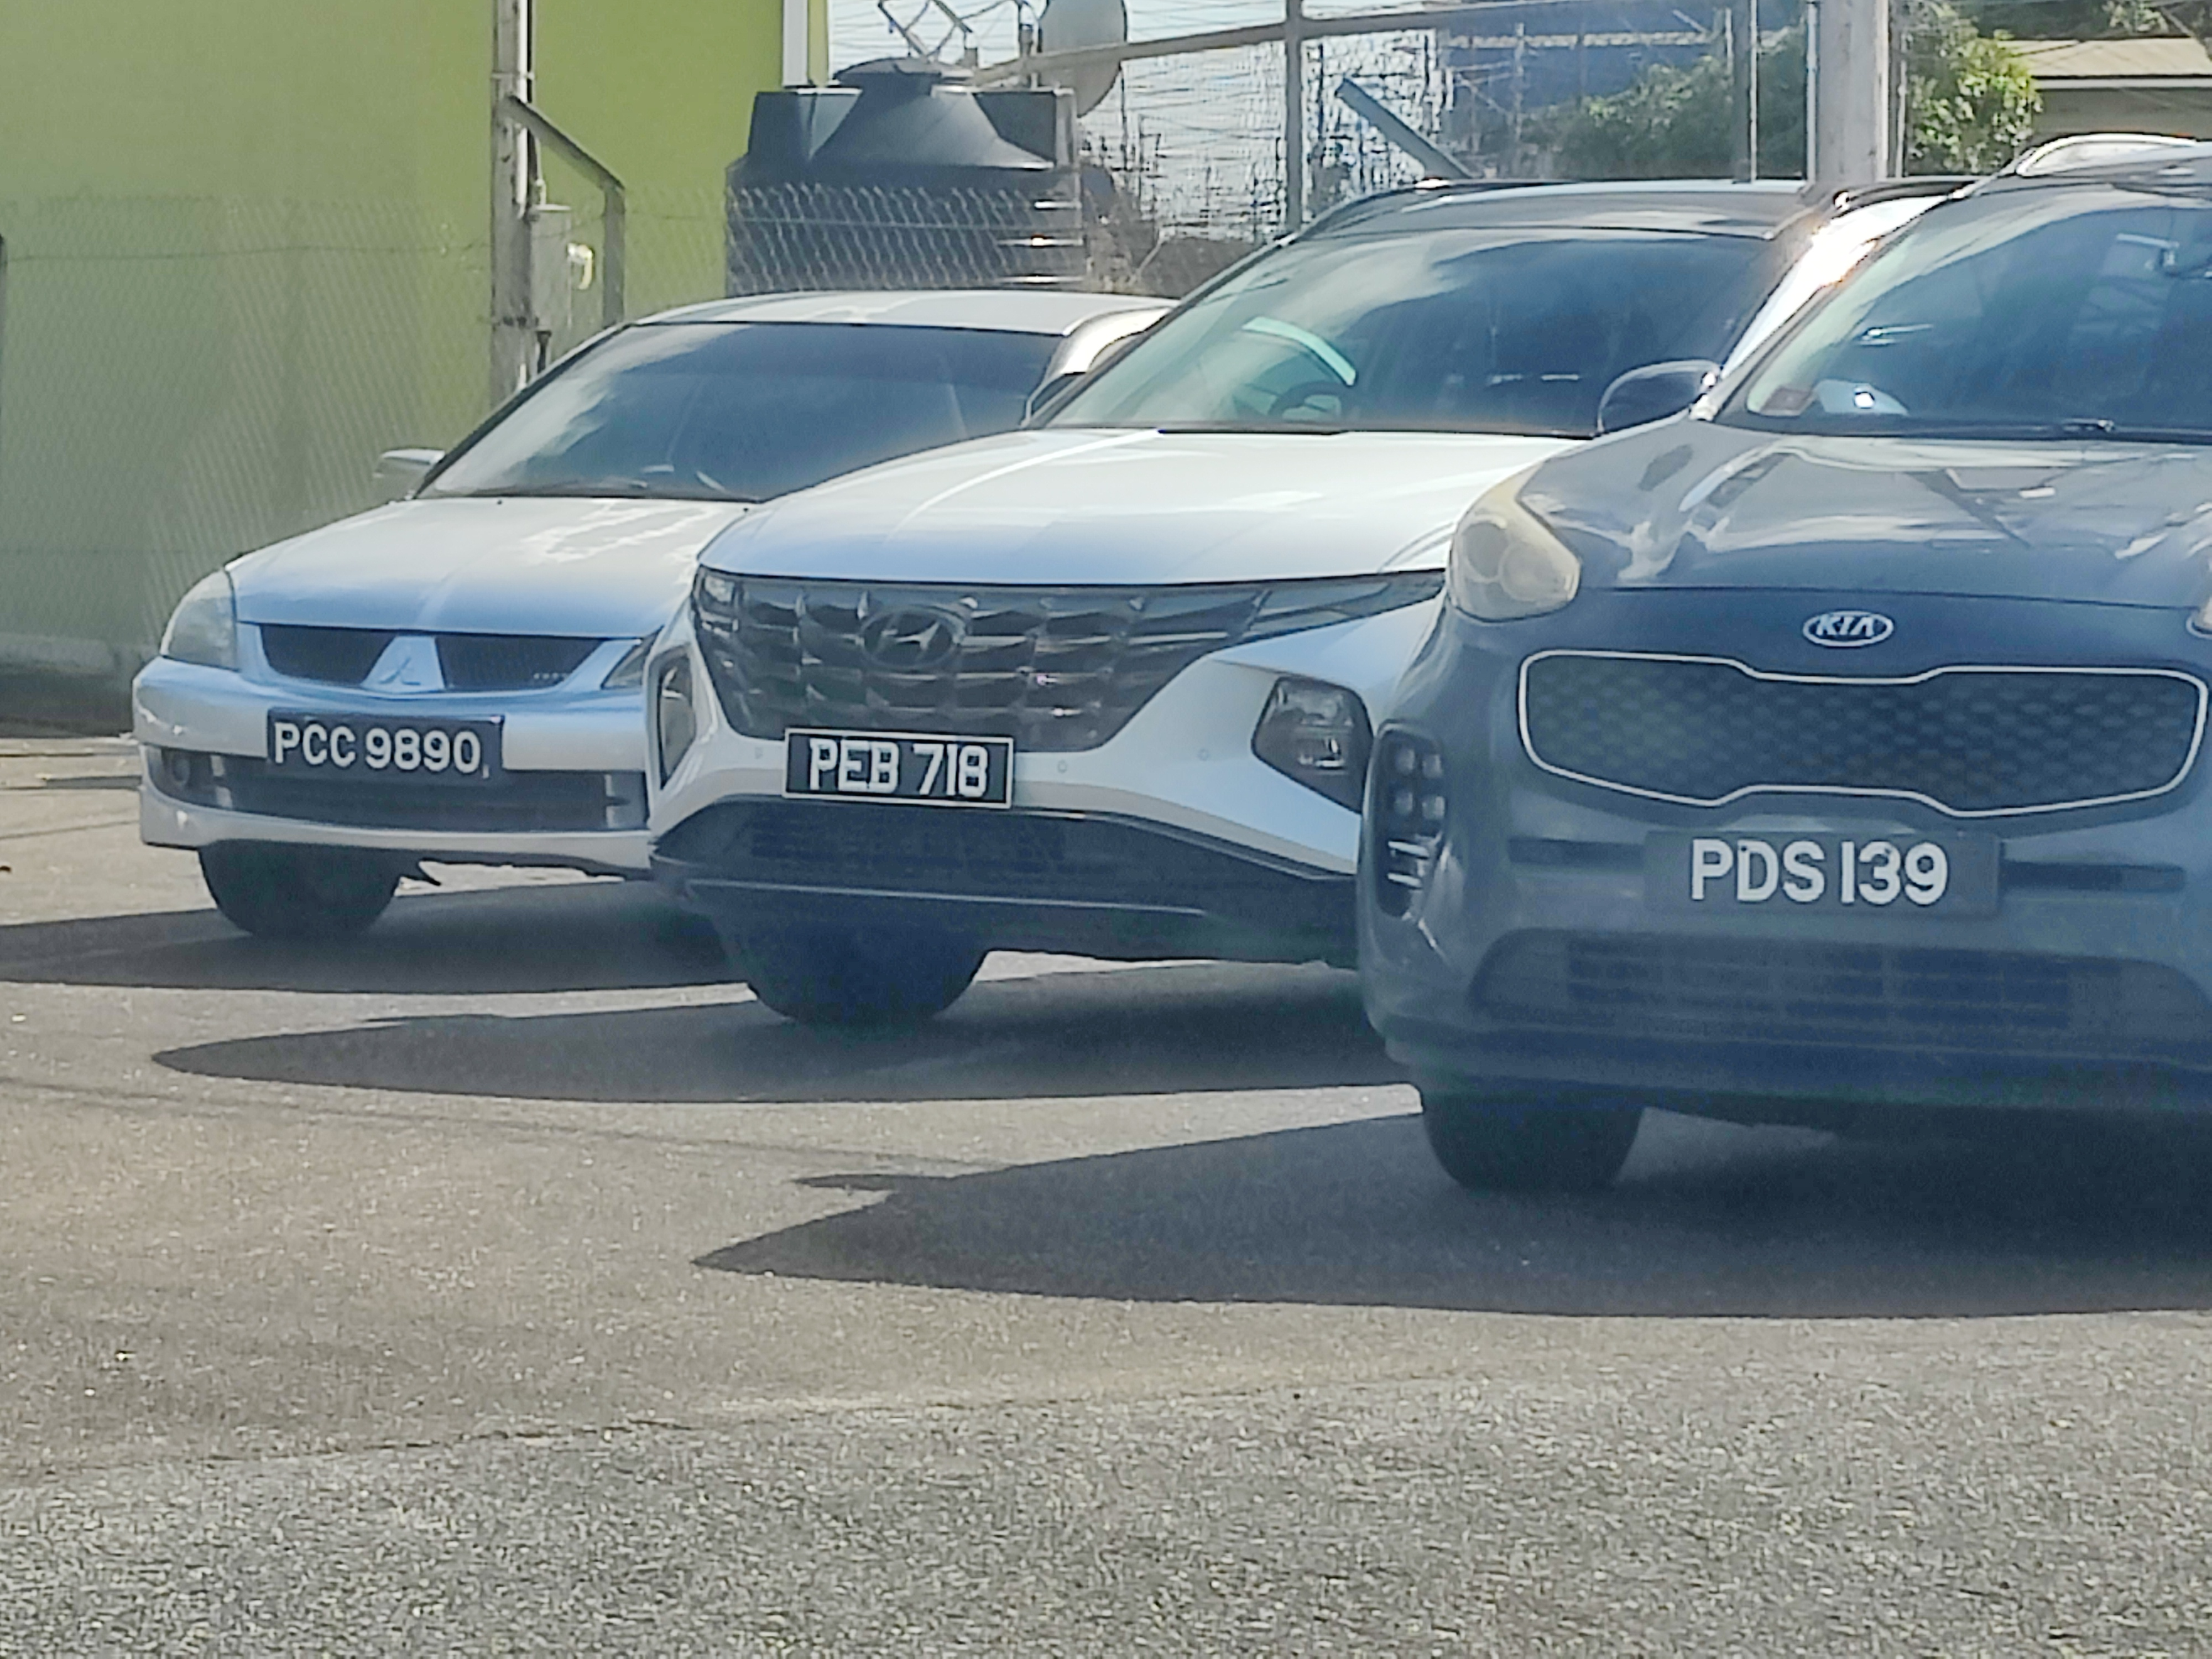License-Plate: (1663, 825, 1992, 901), (789, 729, 1011, 796), (269, 715, 501, 766)
